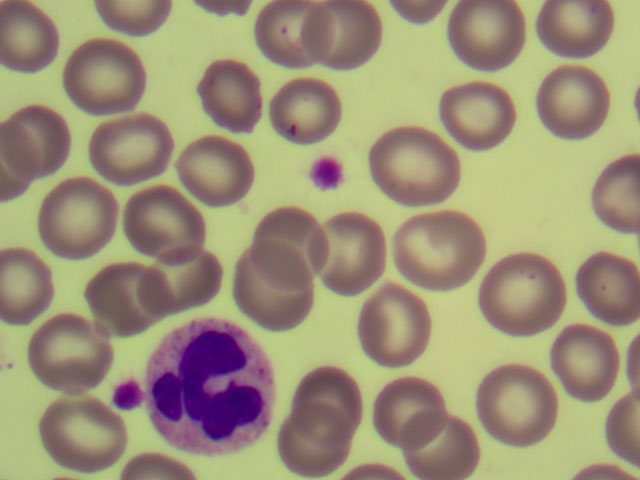Platelets: (314, 157, 341, 188), (115, 379, 144, 407)
RBC: (57, 29, 150, 113), (85, 109, 178, 193), (29, 172, 122, 256), (1, 104, 94, 188), (168, 126, 261, 210), (183, 53, 276, 137), (116, 176, 209, 260), (140, 233, 233, 317), (84, 250, 177, 334), (25, 304, 118, 388), (26, 396, 119, 480), (222, 247, 315, 331), (242, 203, 335, 287), (301, 211, 394, 295), (371, 121, 464, 205), (268, 65, 361, 149), (253, 1, 321, 70), (447, 78, 515, 147), (538, 67, 606, 136), (572, 252, 640, 321), (550, 326, 618, 395), (485, 370, 553, 439), (487, 259, 555, 328), (402, 215, 470, 284), (363, 286, 431, 355), (296, 358, 364, 427), (281, 405, 349, 474), (373, 376, 441, 445), (408, 411, 476, 480), (308, 1, 376, 69), (447, 1, 515, 69), (542, 1, 610, 69), (1, 1, 68, 69)
WBC: (149, 322, 275, 449)
